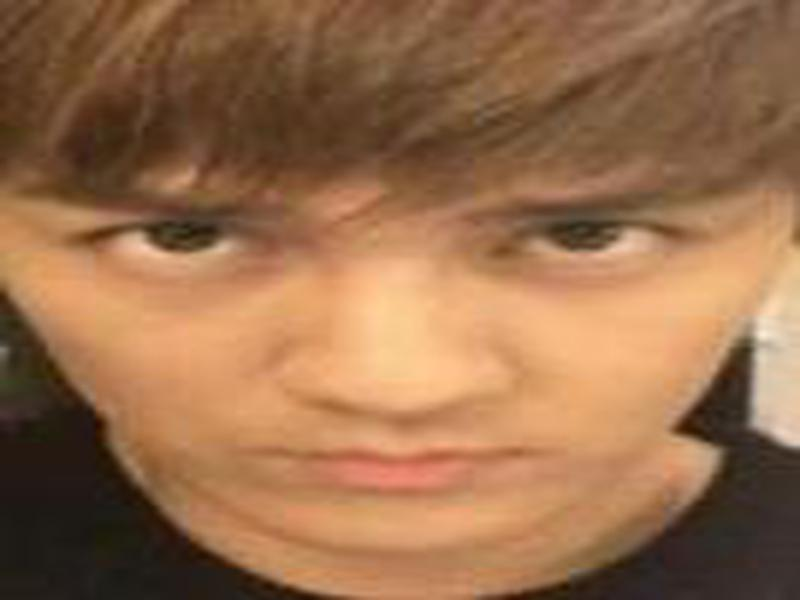without_mask: (6, 55, 791, 561)
